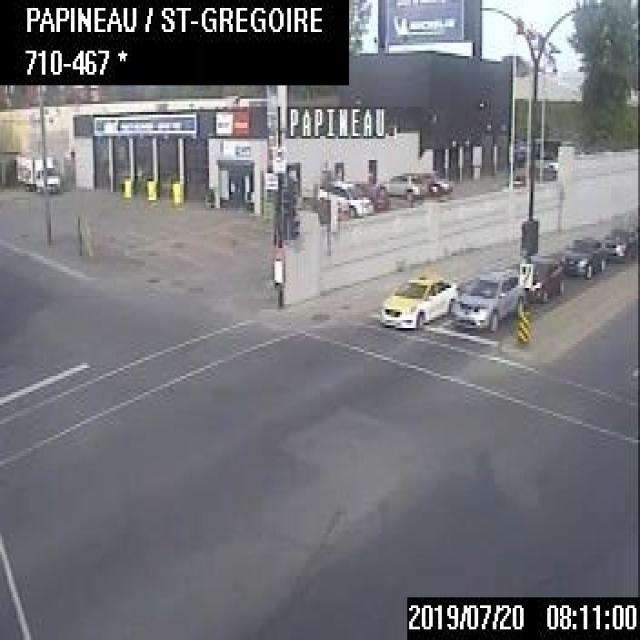vehicle: (450, 265, 525, 333), (374, 272, 457, 331), (314, 175, 372, 217), (524, 254, 566, 303), (10, 152, 60, 193), (560, 235, 606, 276), (374, 171, 424, 200), (604, 225, 637, 262), (355, 177, 387, 209), (425, 168, 451, 191), (422, 172, 439, 192)
